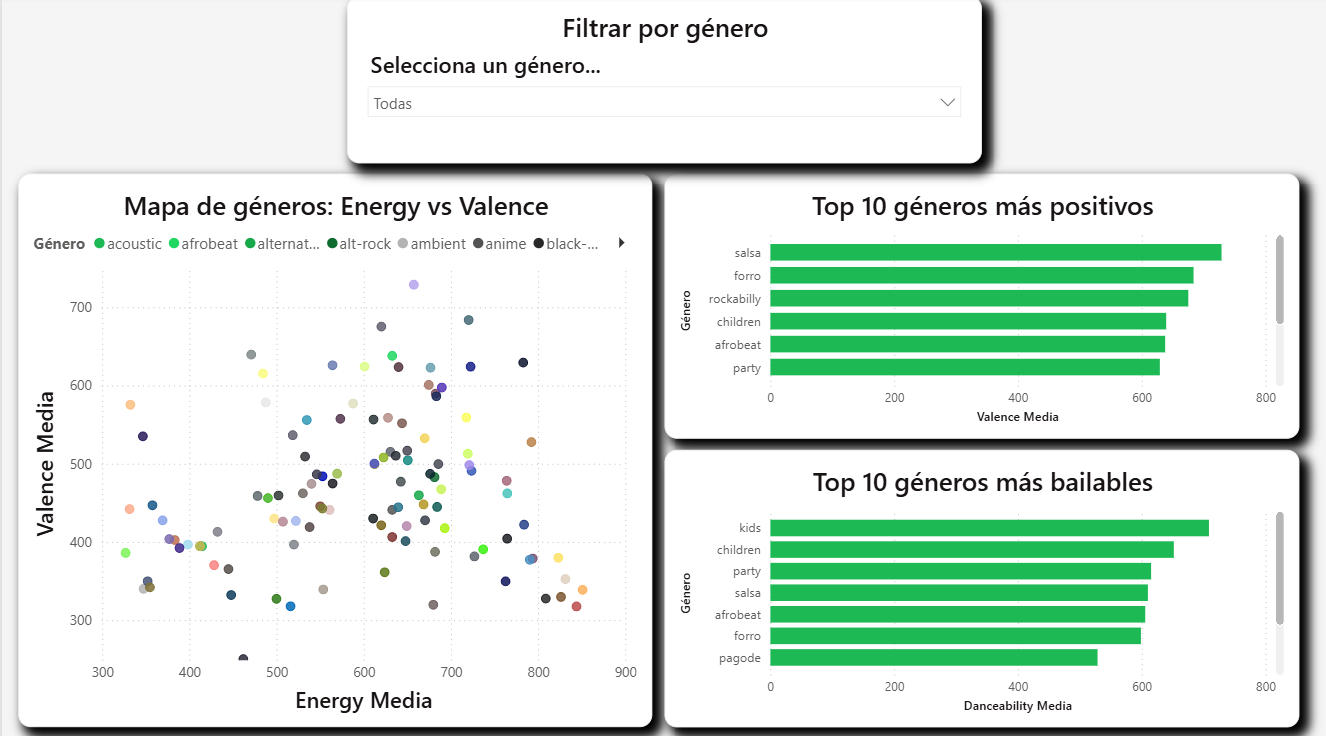

The dashboard page shown, as its layout file describes it:
{"tool":"powerbi","page":{"name":"Mapa de Géneros","canvas":[1280,720],"ordinal":2},"visuals":[{"type":"scatterChart","title":"Mapa de géneros: Energy vs Valence","fields":{"Series":["tracks.track_genre"],"X":["_AudioFeat.AvgEnergy"],"Y":["_AudioFeat.AvgValence"]},"box":[15.7,171.3,611.7,534.5],"z":0},{"type":"clusteredBarChart","title":"Top 10 géneros más positivos","fields":{"Y":["_AudioFeat.AvgValence"],"Category":["tracks.track_genre"]},"box":[639.4,171.3,612.9,255.8],"z":1},{"type":"clusteredBarChart","title":"Top 10 géneros más bailables","fields":{"Category":["tracks.track_genre"],"Y":["_AudioFeat.AvgDanceability"]},"box":[639.4,437.9,612.9,267.8],"z":2},{"type":"slicer","title":"Filtrar por género","fields":{"Values":["tracks.track_genre"]},"box":[333,0,612.9,161.7],"z":3}]}

Visuals, with their boxes in screenshot pixels (x1, y1, x2, y2), scaled from the page's 1280x720 canvas onto the 1326x736 screenshot:
"Mapa de géneros: Energy vs Valence" scatterChart: [16,175,650,721]
"Top 10 géneros más positivos" clusteredBarChart: [662,175,1297,437]
"Top 10 géneros más bailables" clusteredBarChart: [662,448,1297,721]
"Filtrar por género" slicer: [345,0,980,165]
